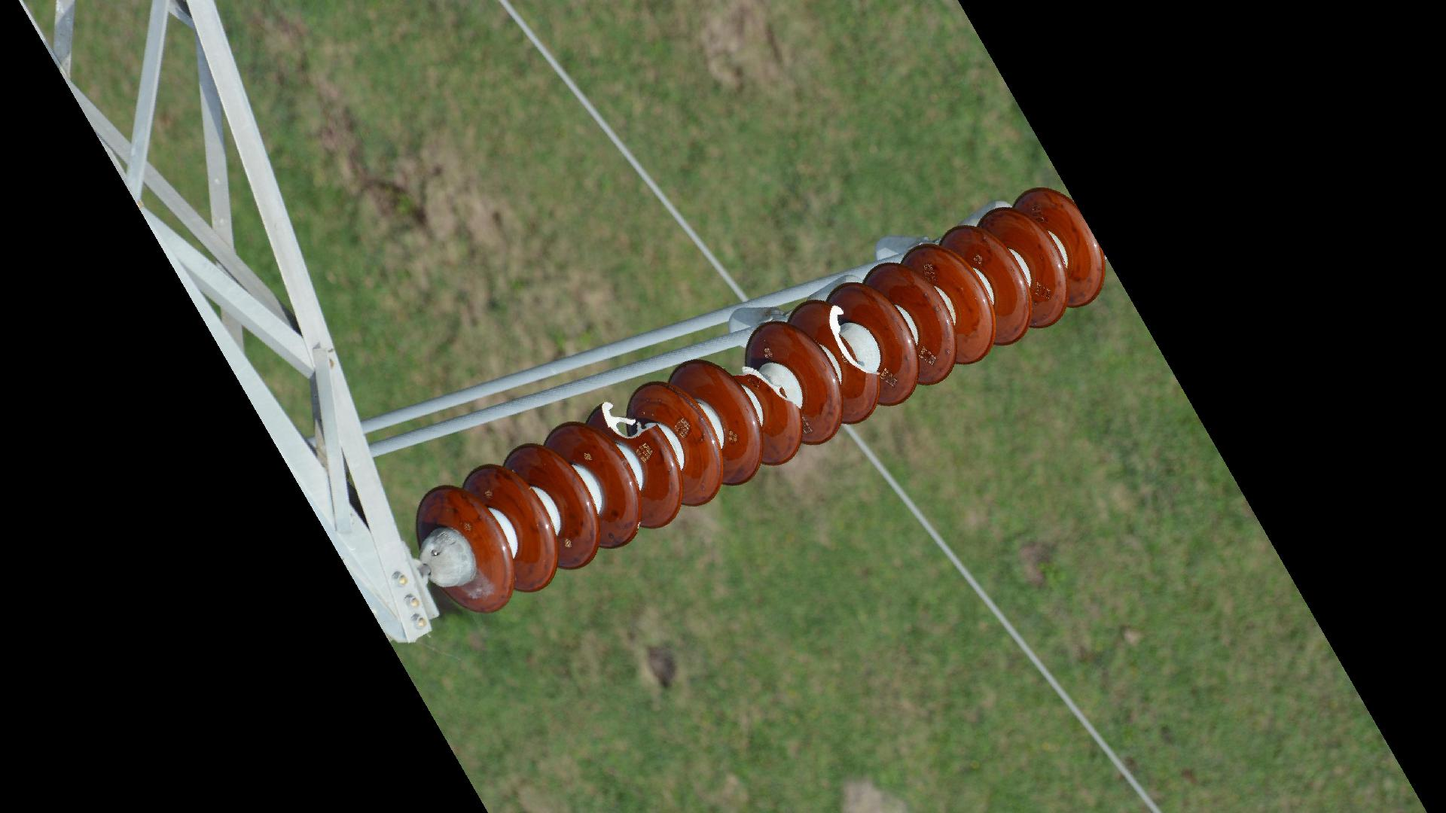insulator: (411, 179, 1109, 617)
insulator_breakage: (819, 297, 888, 387), (719, 360, 810, 420), (593, 397, 667, 448)
